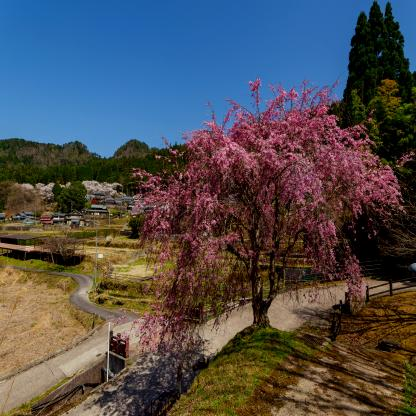ShidareZakura: (113, 78, 416, 370)
